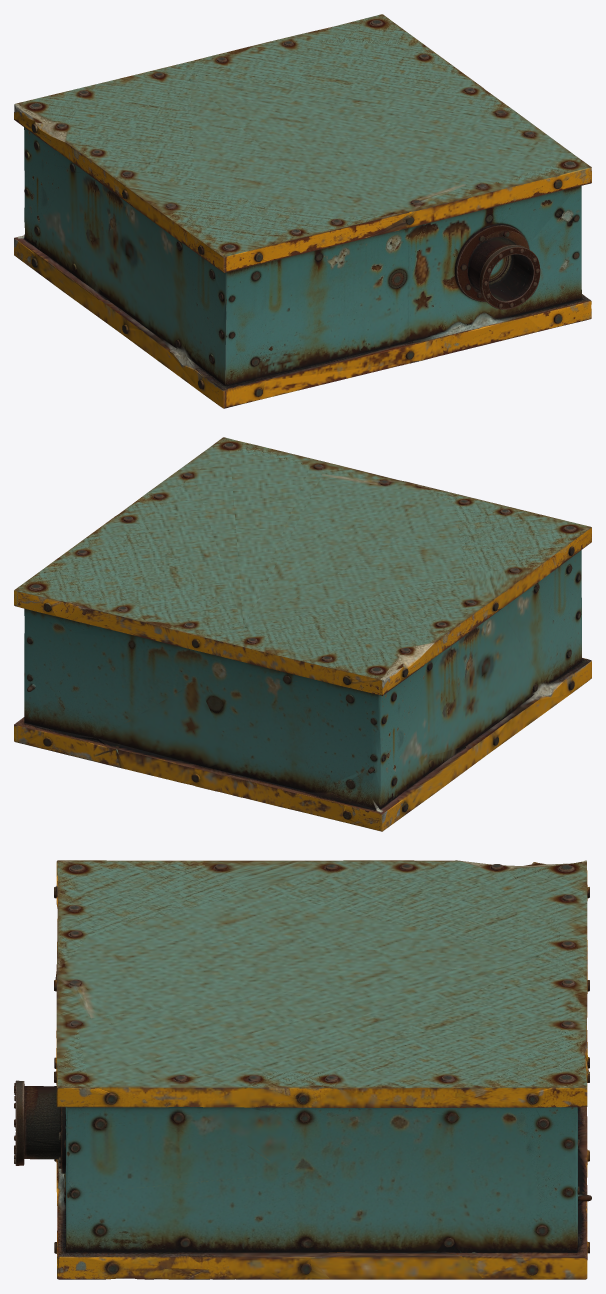
Rendered from basamento_vasca.glb.
3 renders of one model, top to bottom at view 1: azimuth 30°, elevation 25°; view 2: azimuth 150°, elevation 25°; view 3: azimuth 270°, elevation 25°, orthographic. The views are drawn at different scales.
Bounding box in the file's own units: 1.79 × 0.7063 × 1.9.
Materials: 1 (1 with a texture image).
